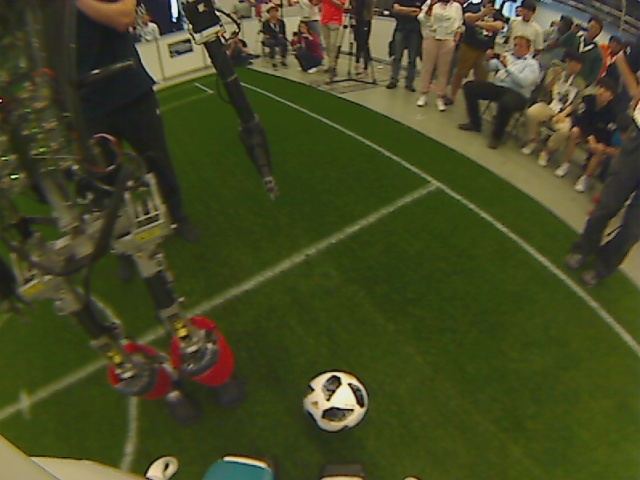ball: (300, 369, 369, 433)
